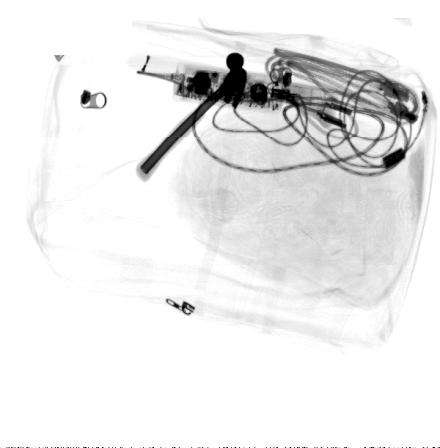Hammer: (135, 51, 249, 182)
